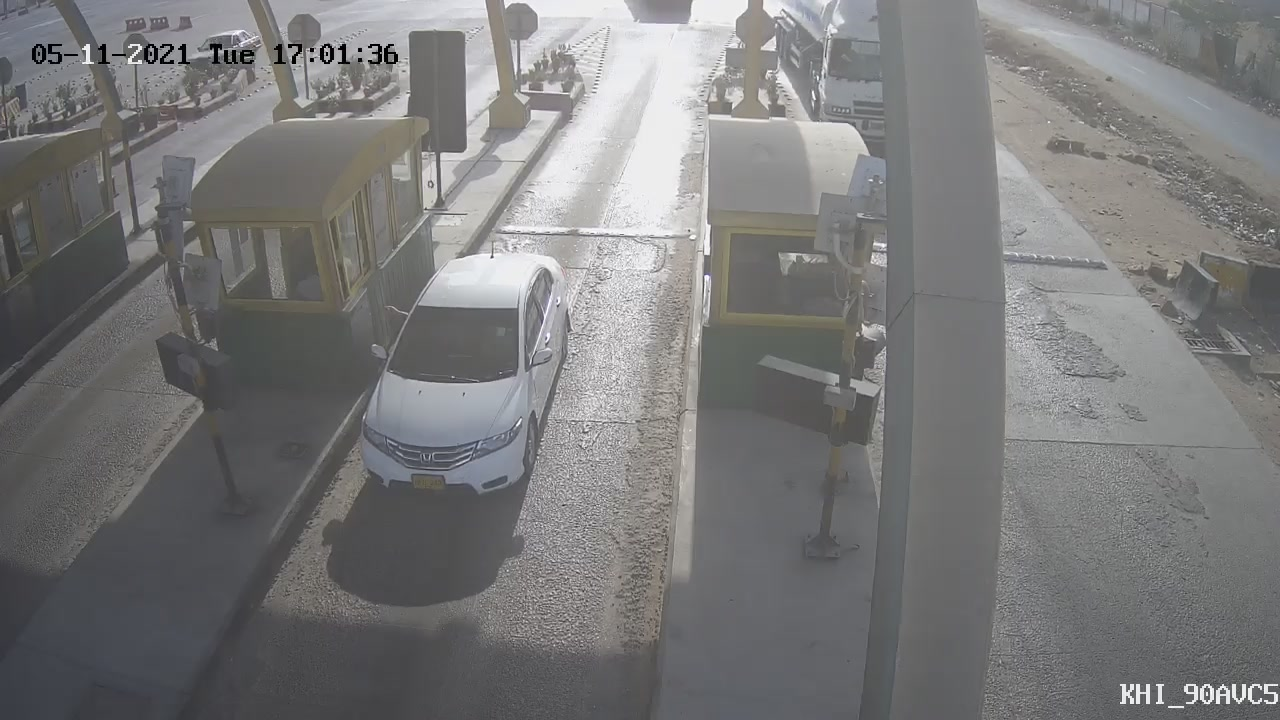F1: (322, 225, 591, 524)
